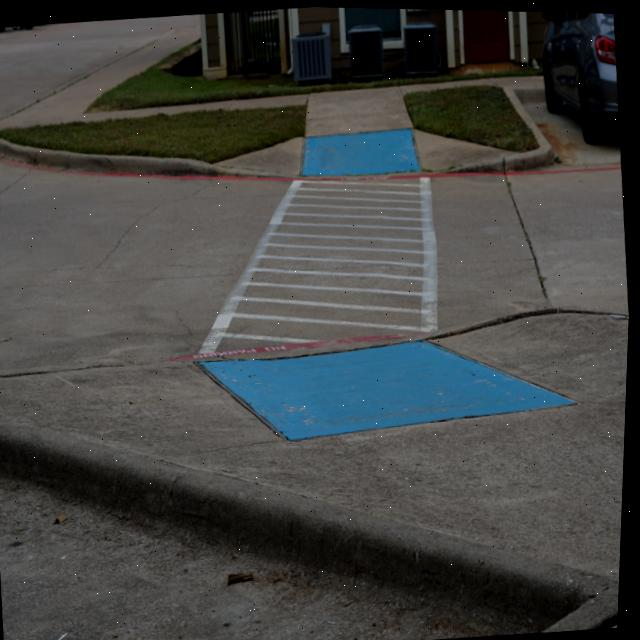Automobile: (542, 9, 619, 140)
Road: (0, 87, 631, 375), (0, 469, 545, 640), (0, 13, 199, 117)
Sidewalk: (0, 309, 631, 630), (0, 27, 554, 174)
